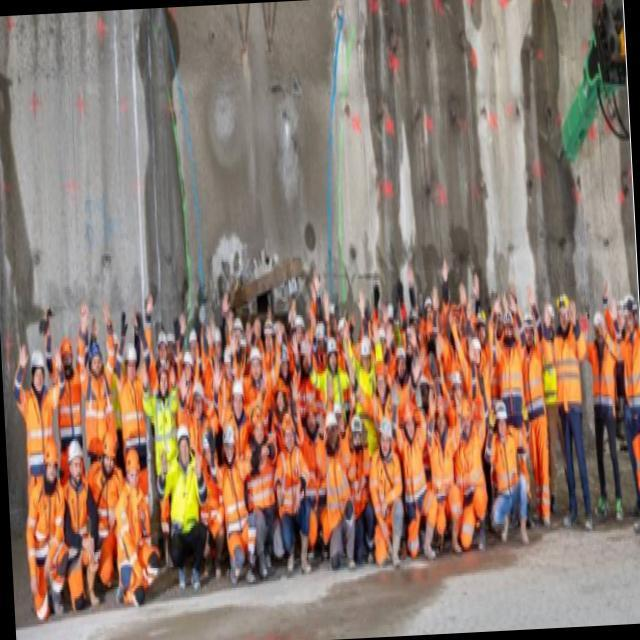helmet: (101, 430, 118, 480), (30, 350, 47, 395), (67, 440, 84, 485), (59, 336, 76, 379), (555, 292, 572, 333), (176, 425, 192, 468), (378, 416, 393, 461), (221, 424, 237, 466), (125, 448, 141, 490), (87, 341, 104, 379), (281, 413, 297, 453), (402, 402, 417, 444), (325, 411, 340, 452), (623, 295, 640, 331), (123, 342, 139, 380), (350, 416, 365, 453), (304, 397, 319, 434), (434, 401, 449, 437), (105, 332, 120, 367), (232, 381, 245, 421), (248, 346, 262, 383), (459, 398, 472, 437), (359, 334, 373, 370), (274, 376, 287, 414), (522, 313, 537, 345), (501, 309, 516, 341), (251, 408, 265, 442), (193, 384, 206, 420), (495, 402, 509, 435), (262, 316, 275, 350), (156, 332, 169, 363), (451, 370, 464, 401), (212, 324, 223, 358), (593, 312, 605, 343), (396, 347, 408, 378), (327, 338, 339, 369), (294, 314, 306, 342), (183, 351, 194, 381), (617, 298, 626, 332), (472, 339, 482, 365), (233, 318, 244, 341), (425, 297, 434, 324), (338, 318, 349, 340)
